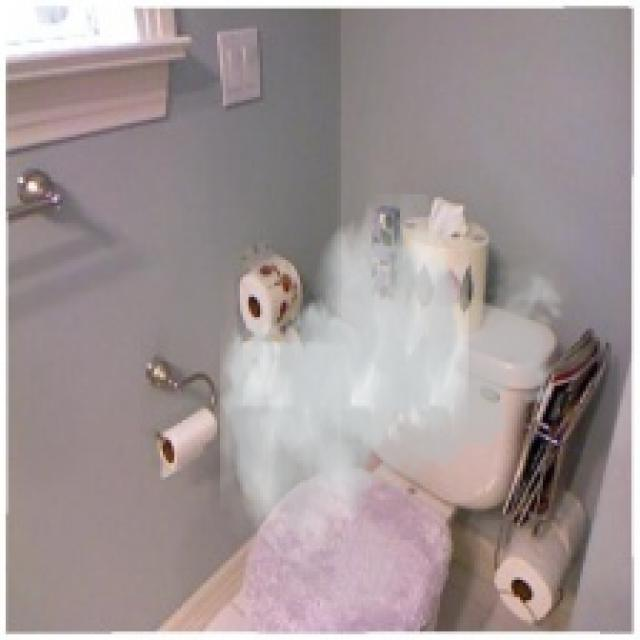smoke: (220, 194, 574, 557)
